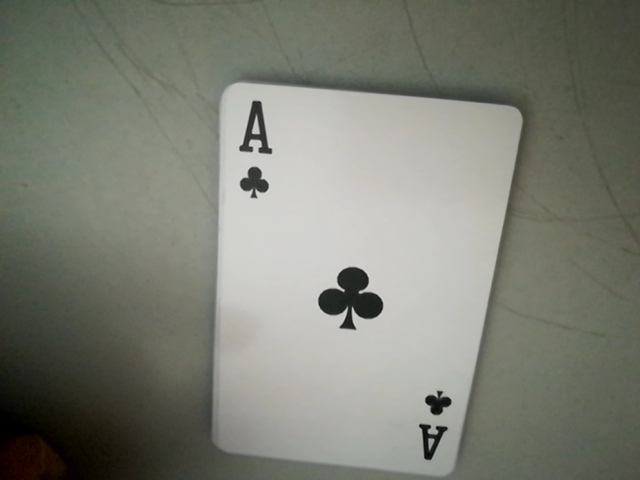mh a: (222, 86, 279, 202), (414, 385, 460, 471)
